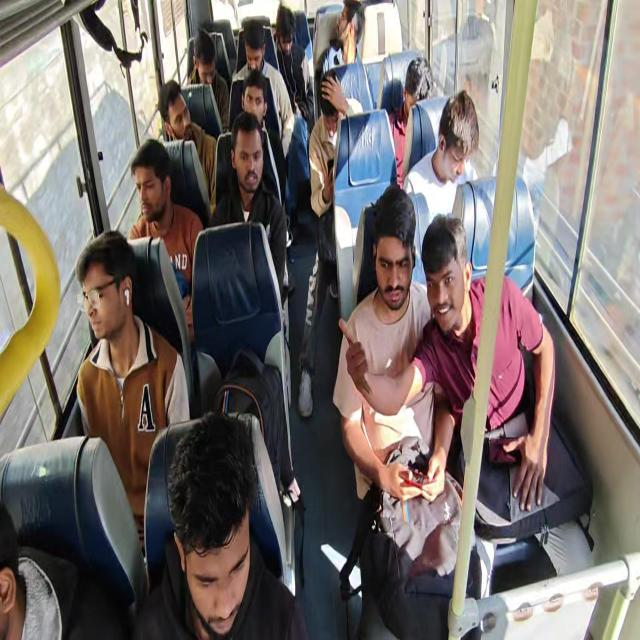person: (342, 210, 598, 588), (333, 184, 484, 637), (414, 212, 556, 514), (133, 410, 308, 639), (75, 230, 190, 558), (297, 72, 362, 418), (0, 502, 125, 639), (127, 138, 204, 343), (401, 90, 482, 284), (210, 111, 289, 308), (230, 19, 294, 160), (158, 79, 216, 206), (239, 67, 287, 206), (388, 55, 434, 188), (316, 0, 367, 116), (187, 27, 229, 133), (274, 4, 312, 121), (334, 1, 366, 65)
